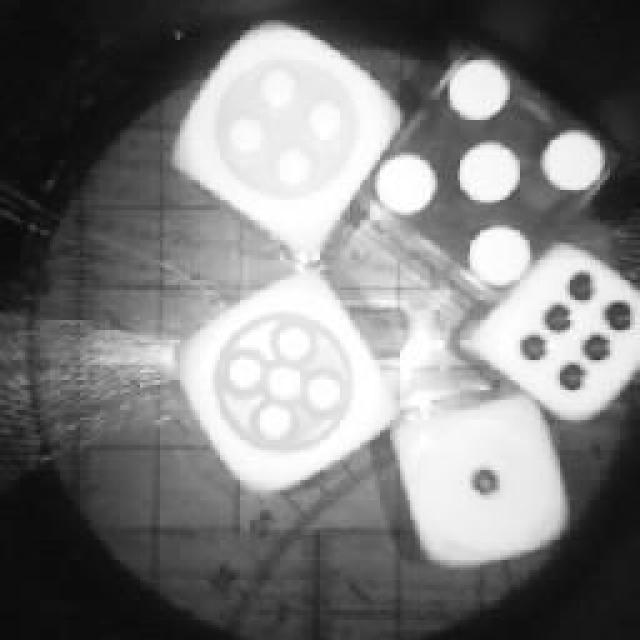dice_1: (388, 382, 578, 572)
dice_4: (155, 10, 407, 272)
dice_5: (357, 40, 625, 305), (172, 270, 408, 502)
dice_6: (462, 240, 640, 425)
